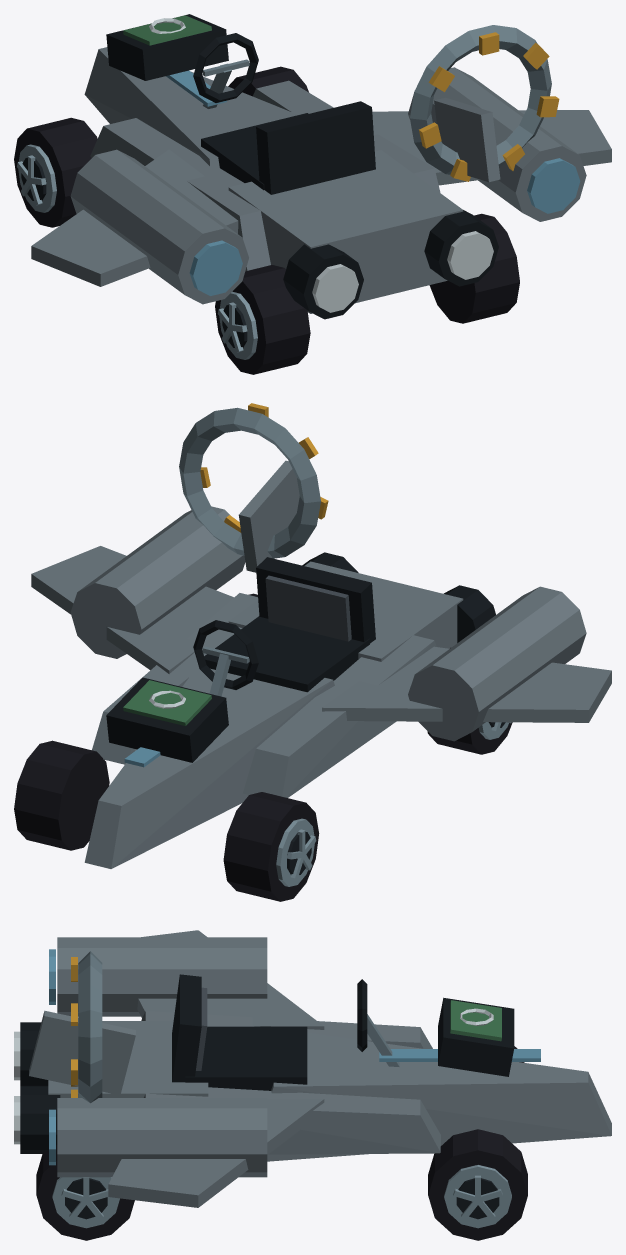
Rendered from kart.glb.
3 renders of one model, top to bottom at view 1: azimuth 30°, elevation 25°; view 2: azimuth 150°, elevation 25°; view 3: azimuth 270°, elevation 25°, orthographic. The views are drawn at different scales.
Visible parts, largest first — view 1: identity-starfighter-starfighter-flight-planform, identity-starfighter-motif-engine-pods, identity-starfighter-driver-cockpit, identity-starfighter-motif-gate-ring, wheel-rear-left, wheel-front-left, identity-starfighter-motif-scanner, wheel-rear-right, wheel-front-right; view 2: identity-starfighter-starfighter-flight-planform, identity-starfighter-motif-engine-pods, identity-starfighter-driver-cockpit, identity-starfighter-motif-gate-ring, wheel-front-left, wheel-front-right, identity-starfighter-motif-scanner, wheel-rear-left; view 3: identity-starfighter-starfighter-flight-planform, identity-starfighter-motif-engine-pods, identity-starfighter-driver-cockpit, wheel-front-right, identity-starfighter-motif-scanner, wheel-rear-right, identity-starfighter-motif-gate-ring.
Boxes of the visible parts, x1=… form: identity-starfighter-starfighter-flight-planform: x1=31, y1=47, x2=611, y2=319; identity-starfighter-motif-engine-pods: x1=70, y1=67, x2=586, y2=304; identity-starfighter-driver-cockpit: x1=193, y1=33, x2=375, y2=194; identity-starfighter-motif-gate-ring: x1=410, y1=25, x2=559, y2=181; wheel-rear-left: x1=215, y1=265, x2=310, y2=374; wheel-front-left: x1=14, y1=117, x2=97, y2=227; identity-starfighter-motif-scanner: x1=106, y1=14, x2=228, y2=80; wheel-rear-right: x1=429, y1=213, x2=519, y2=323; wheel-front-right: x1=228, y1=66, x2=308, y2=96; identity-starfighter-starfighter-flight-planform: x1=31, y1=460, x2=611, y2=868; identity-starfighter-motif-engine-pods: x1=70, y1=506, x2=586, y2=741; identity-starfighter-driver-cockpit: x1=193, y1=557, x2=375, y2=696; identity-starfighter-motif-gate-ring: x1=179, y1=403, x2=328, y2=558; wheel-front-left: x1=223, y1=792, x2=319, y2=901; wheel-front-right: x1=14, y1=740, x2=109, y2=850; identity-starfighter-motif-scanner: x1=106, y1=677, x2=228, y2=762; wheel-rear-left: x1=427, y1=647, x2=512, y2=754; identity-starfighter-starfighter-flight-planform: x1=14, y1=930, x2=611, y2=1207; identity-starfighter-motif-engine-pods: x1=49, y1=937, x2=267, y2=1177; identity-starfighter-driver-cockpit: x1=172, y1=974, x2=399, y2=1090; wheel-front-right: x1=428, y1=1129, x2=527, y2=1240; identity-starfighter-motif-scanner: x1=438, y1=997, x2=514, y2=1076; wheel-rear-right: x1=36, y1=1145, x2=134, y2=1240; identity-starfighter-motif-gate-ring: x1=71, y1=951, x2=102, y2=1103.
Size of the model in its own units: 3.14 by 1.52 by 2.99.
